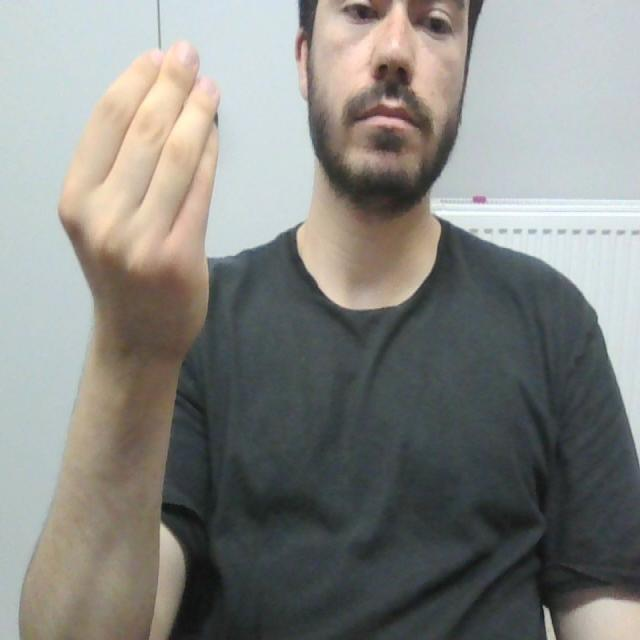iyi: (62, 37, 224, 260)
